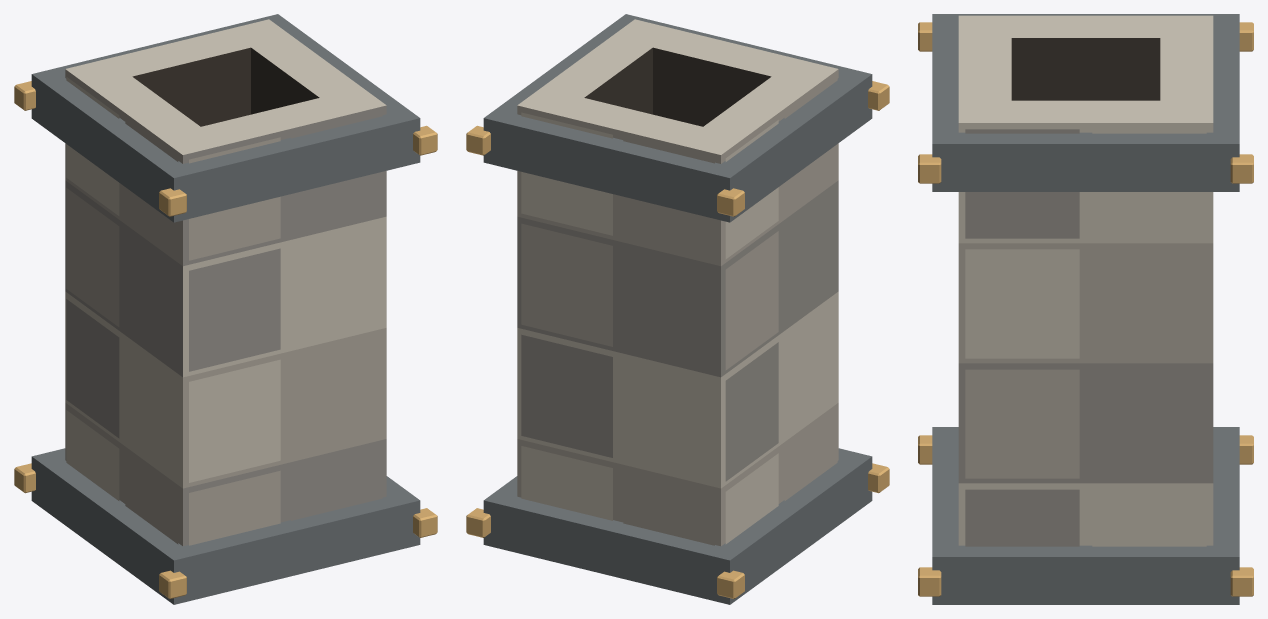
The model's file is chimney_straight.gltf.
3 renders of one model, left to right at view 1: azimuth 30°, elevation 25°; view 2: azimuth 150°, elevation 25°; view 3: azimuth 270°, elevation 25°, orthographic. The views are drawn at different scales.
Size of the model in its own units: 0.634 by 1 by 0.634.
